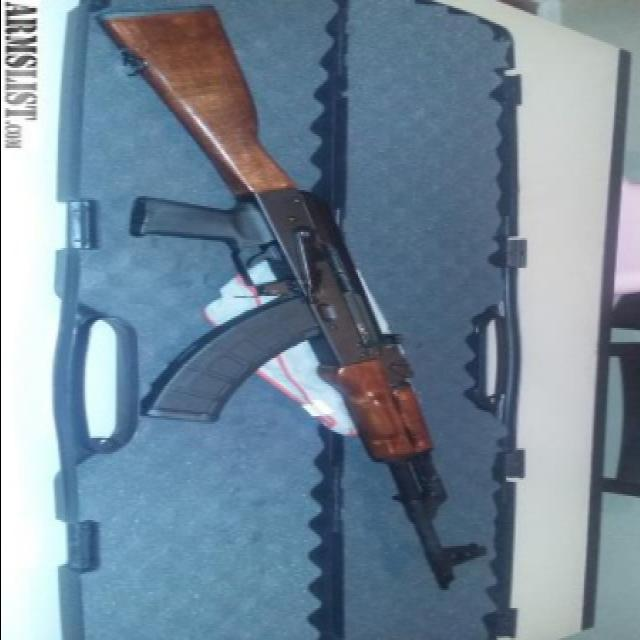rifle: (102, 1, 498, 593)
